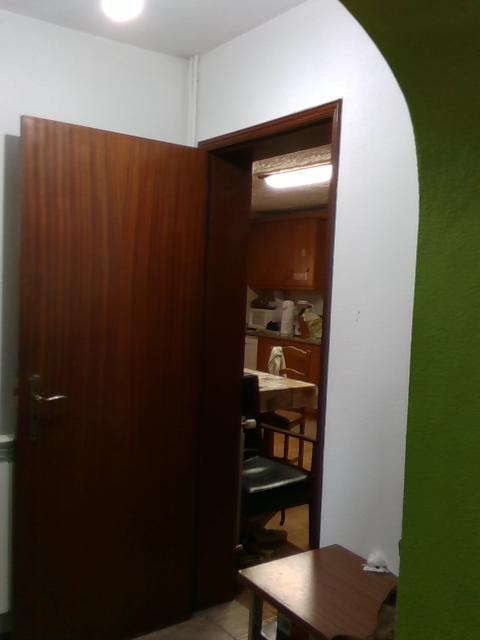open_door: (195, 95, 342, 622)
